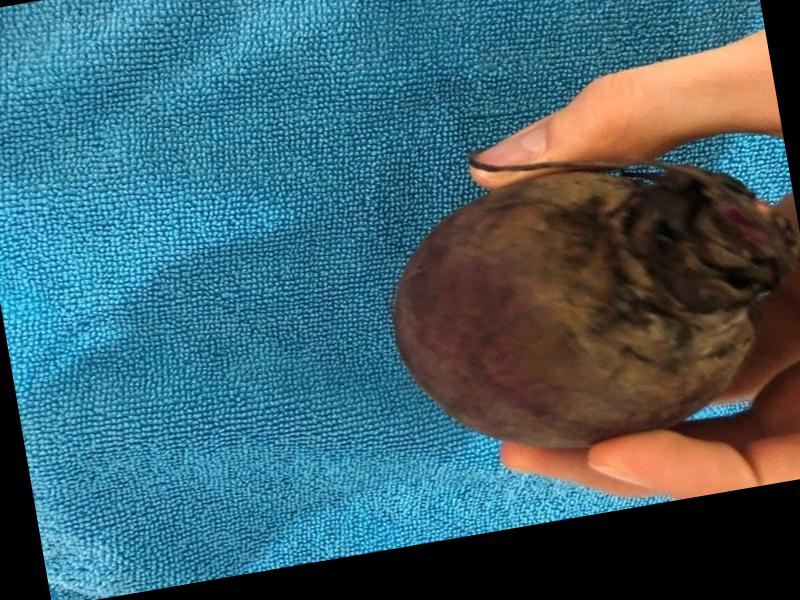Beet: (367, 101, 800, 475)
